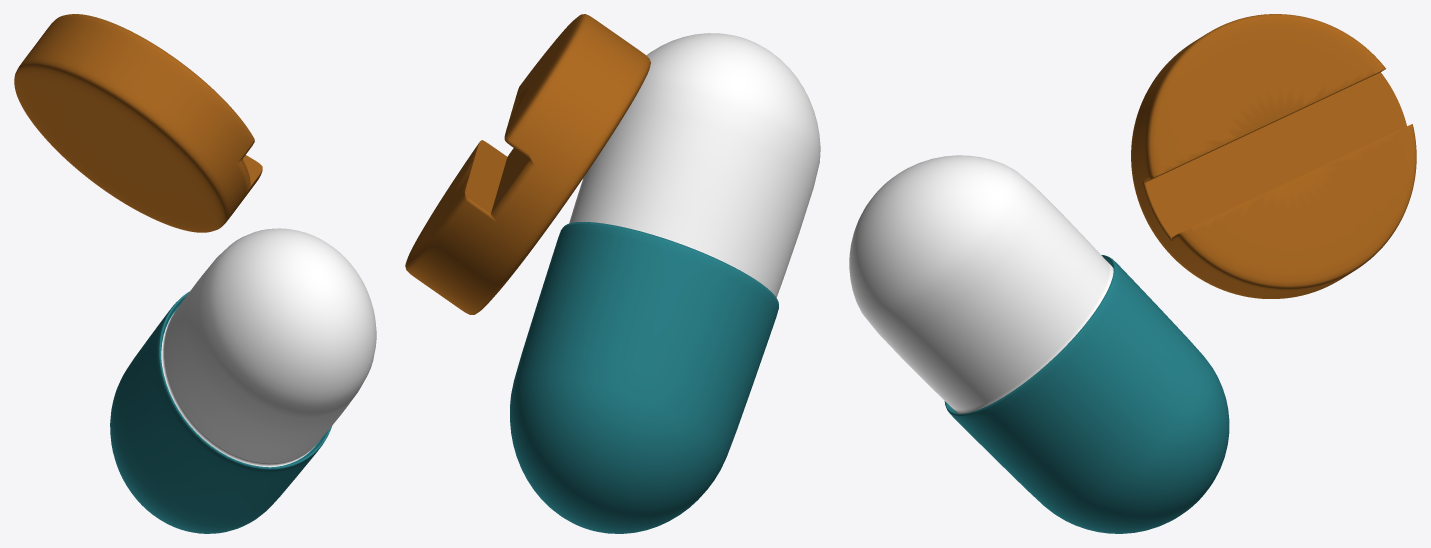
File: pills-blue.gltf
3 renders of one model, left to right at view 1: azimuth 30°, elevation 25°; view 2: azimuth 150°, elevation 25°; view 3: azimuth 270°, elevation 25°, orthographic. The views are drawn at different scales.
Parts seen in each view (by area): view 1: Sphere.006, Cylinder.018; view 2: Sphere.006, Cylinder.018; view 3: Sphere.006, Cylinder.018.
Part boxes in pixels (left/top/right/bottom): Sphere.006: left=110, top=228, right=376, bottom=533; Cylinder.018: left=14, top=14, right=262, bottom=232; Sphere.006: left=510, top=33, right=820, bottom=533; Cylinder.018: left=405, top=14, right=650, bottom=314; Sphere.006: left=849, top=155, right=1229, bottom=533; Cylinder.018: left=1131, top=14, right=1416, bottom=298.
Bounding box in the file's own units: 2.54 × 6.22 × 6.45.
